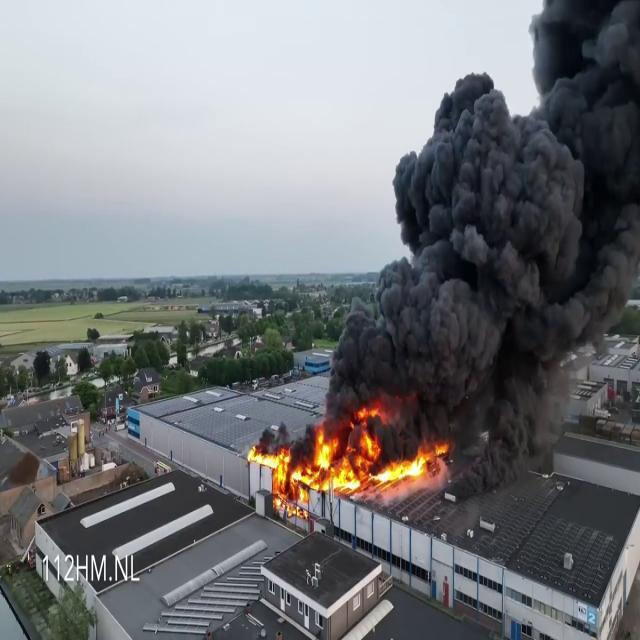Fire: (250, 418, 442, 506)
Smoke: (321, 2, 640, 446)
